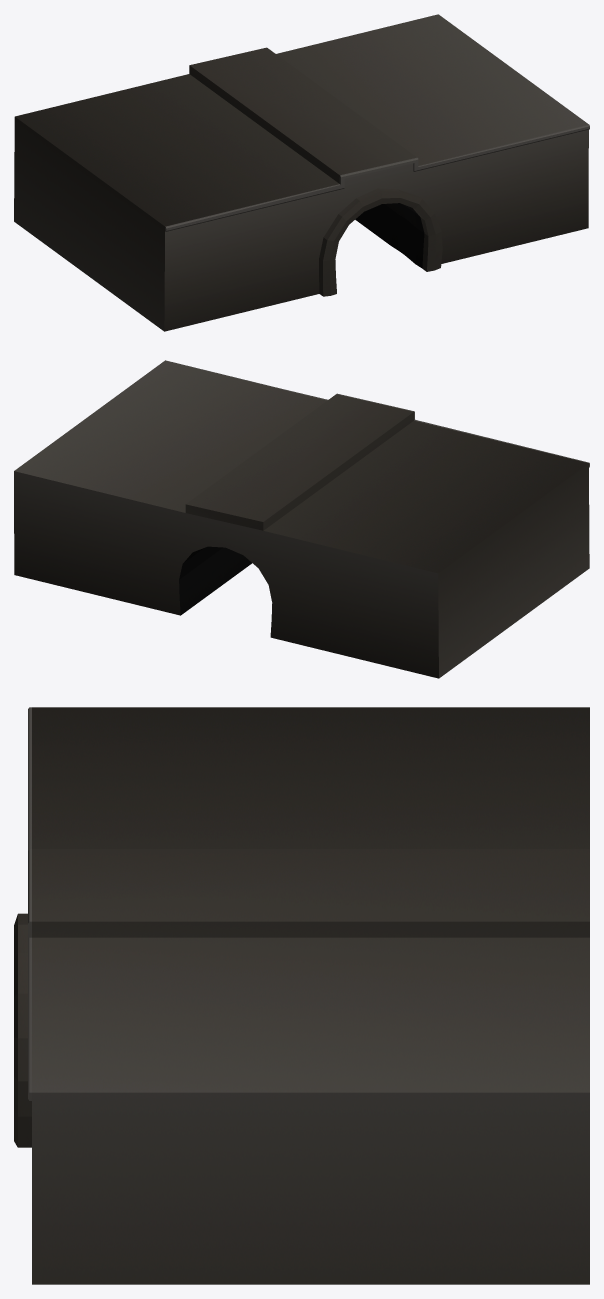
Rendered from Tunel.fbx.
3 renders of one model, top to bottom at view 1: azimuth 30°, elevation 25°; view 2: azimuth 150°, elevation 25°; view 3: azimuth 270°, elevation 25°, orthographic. The views are drawn at different scales.
Parts seen in each view (by area): view 1: Tunel; view 2: Tunel; view 3: Tunel.
Part boxes in pixels (x1,y1,x2,y2): Tunel: (14, 14, 589, 331); Tunel: (14, 360, 589, 678); Tunel: (14, 707, 589, 1284).
Bounding box in the file's own units: 40290 × 10336 × 25534.
1 material, 1 textured.
